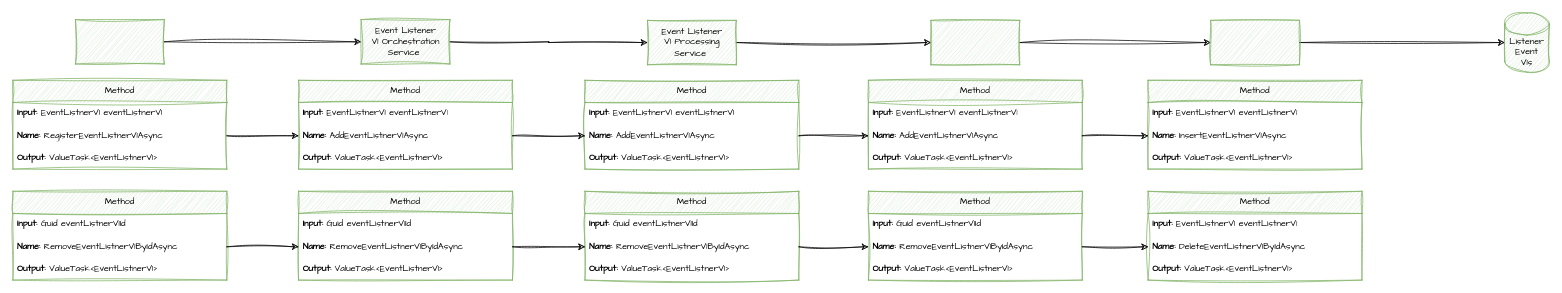
This 1562x293 diagram has some shape labels left out. The centre of each missing label's shape, as x and y in pixels:
"Event Listener V1 Service" belongs at point (975, 42).
"Event Listener V1s Client" belongs at point (119, 41).
"Storage Broker" belongs at point (1254, 42).
